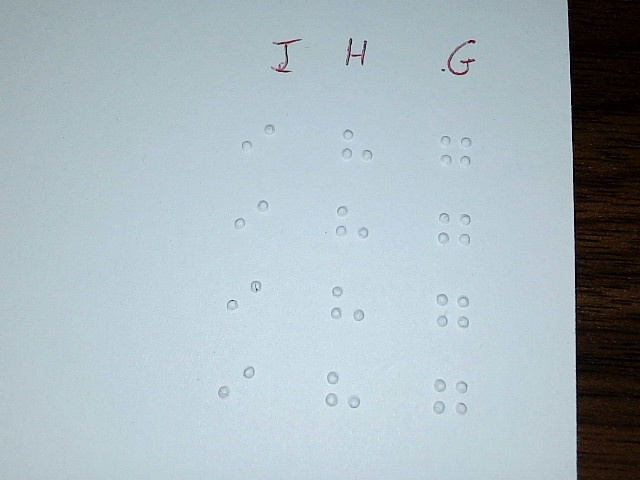G: (439, 125, 475, 182), (438, 202, 474, 259), (435, 284, 471, 341), (433, 369, 469, 426)
H: (340, 120, 376, 177), (335, 197, 371, 254), (330, 277, 366, 334), (325, 365, 361, 422)
I: (217, 357, 257, 415), (240, 113, 276, 170), (233, 189, 269, 246), (226, 270, 262, 327)
